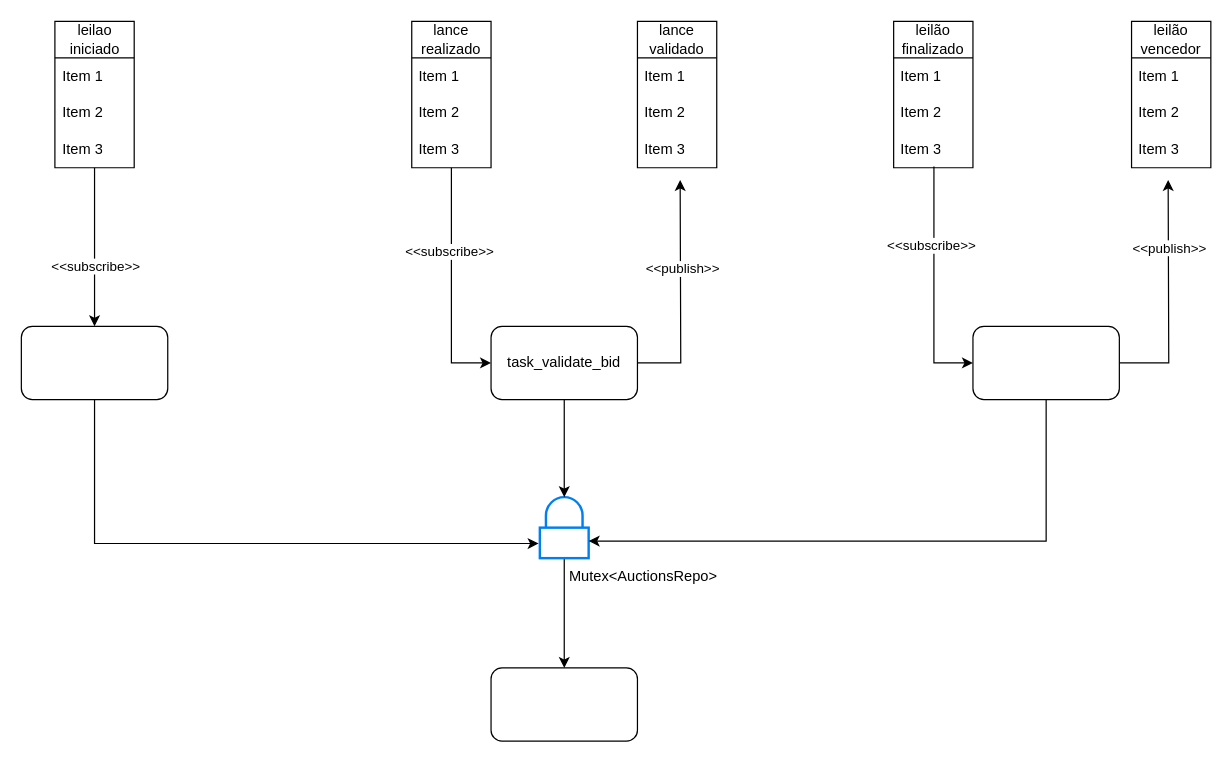
The diagram is 1232 pixels wide and 763 high, and some of its shapes have lost their labels. The shapes that lost their labels are listed below. From the top down, each one's centre as x and y in pixels, then its label:
At (x=94, y=362): "task_init_auction".
At (x=1045, y=362): "task_end_auction".
At (x=563, y=704): "AuctionsRepo".
